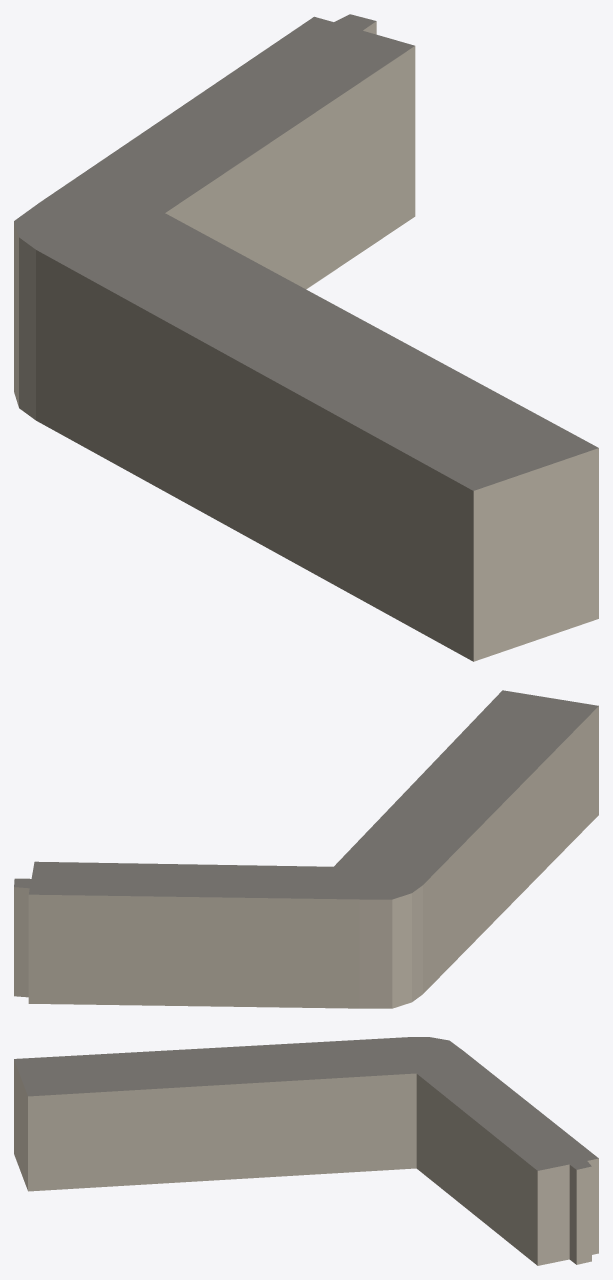
The picture shows the model from 3 angles, top to bottom: view 1: azimuth 30°, elevation 25°; view 2: azimuth 150°, elevation 25°; view 3: azimuth 270°, elevation 25°; orthographic projection. The views are drawn at different scales.
Parts seen in each view (by area): view 1: HP-w783664773; view 2: HP-w783664773; view 3: HP-w783664773.
Part boxes in pixels (box(x1,y1,x2,y2)): HP-w783664773: box(14, 14, 598, 661); HP-w783664773: box(14, 690, 598, 1008); HP-w783664773: box(14, 1037, 598, 1265).
Bounding box in the file's own units: 54.42 × 18 × 100.
